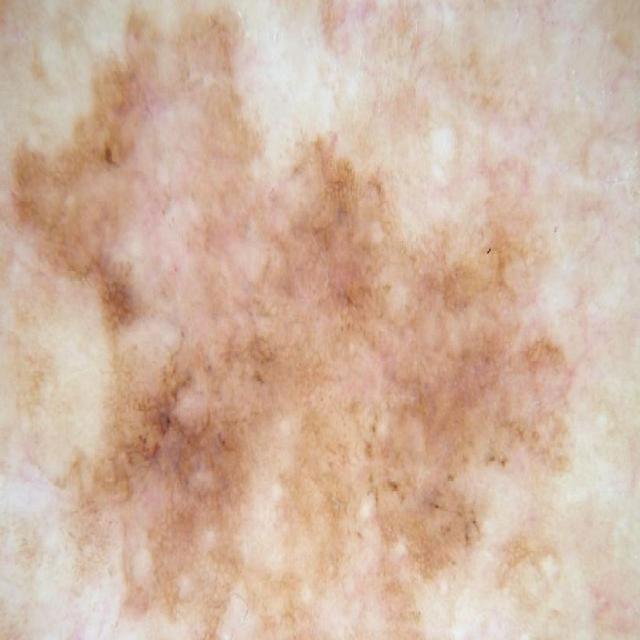Melanoma: (53, 65, 523, 640)
